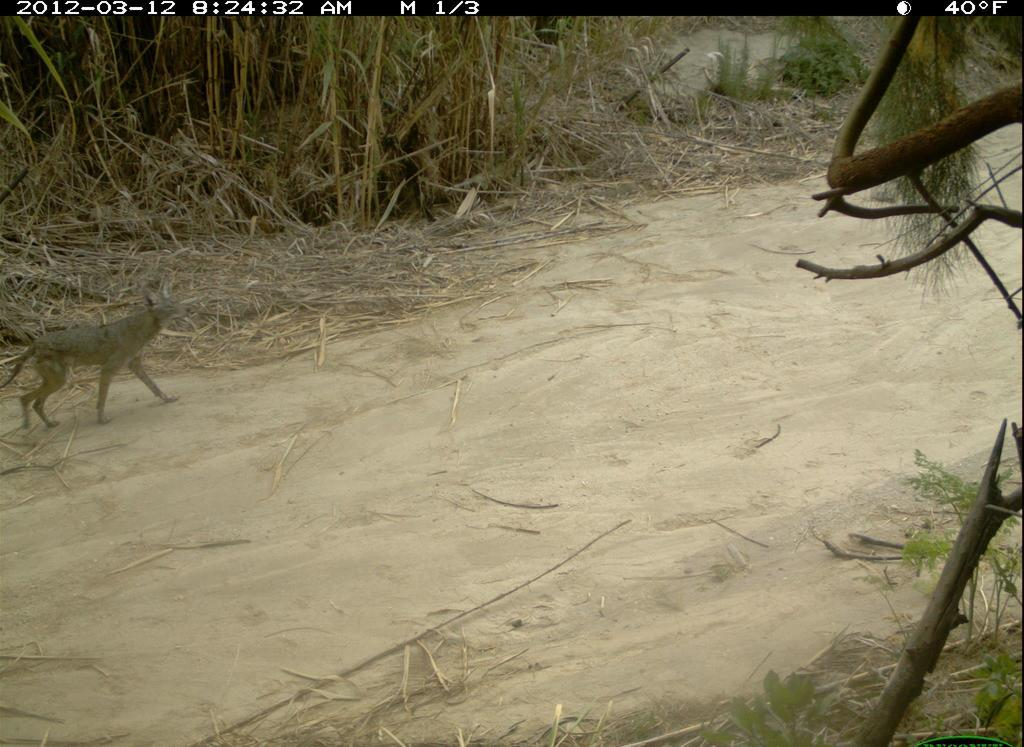coyote: (4, 277, 200, 438)
